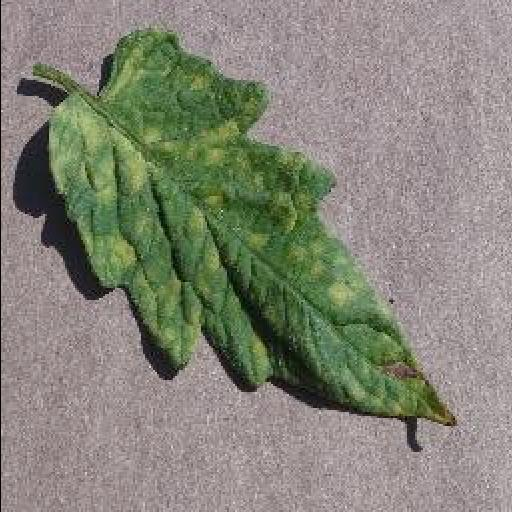disease_tomato: (52, 30, 458, 430)
